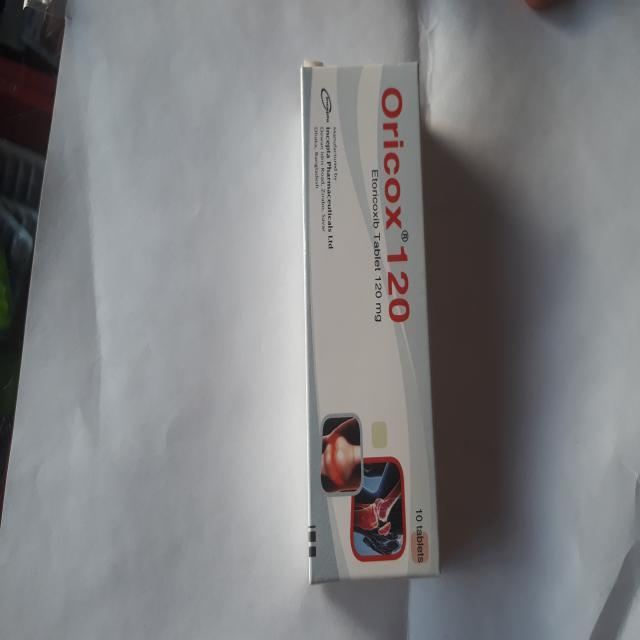drug-name: (380, 87, 415, 330)
